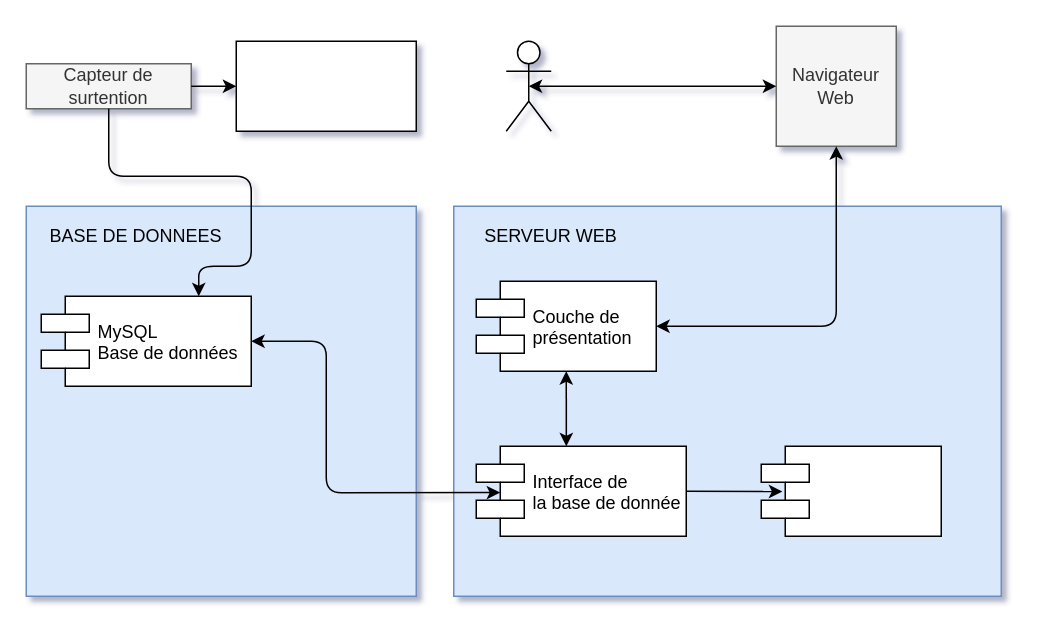
This 1037x632 diagram has some shape labels left out. Here are the shapes that lost their labels. From the top down, the centre of each, then its label:
At [325,85]: "Machine laser".
At [528,85]: "Praticien".
At [850,490]: "Fichier d'identification".
